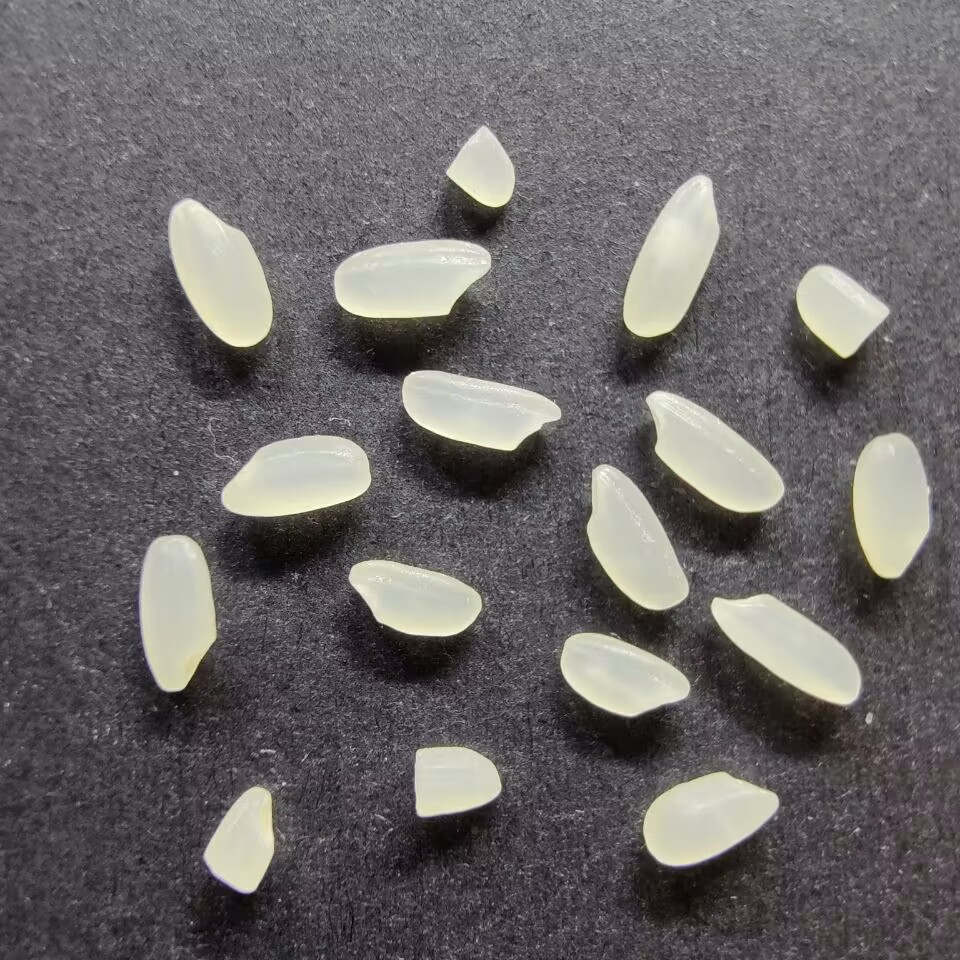broken: (793, 262, 890, 360), (201, 784, 276, 895), (411, 745, 503, 823), (444, 124, 516, 210)
rice: (708, 592, 864, 706), (643, 388, 784, 514), (621, 172, 721, 339), (166, 197, 275, 350), (584, 464, 690, 612), (399, 368, 564, 453), (641, 770, 781, 867), (137, 533, 219, 693), (332, 237, 491, 319), (220, 433, 372, 518), (558, 632, 690, 720), (852, 432, 931, 579), (347, 557, 482, 639)
